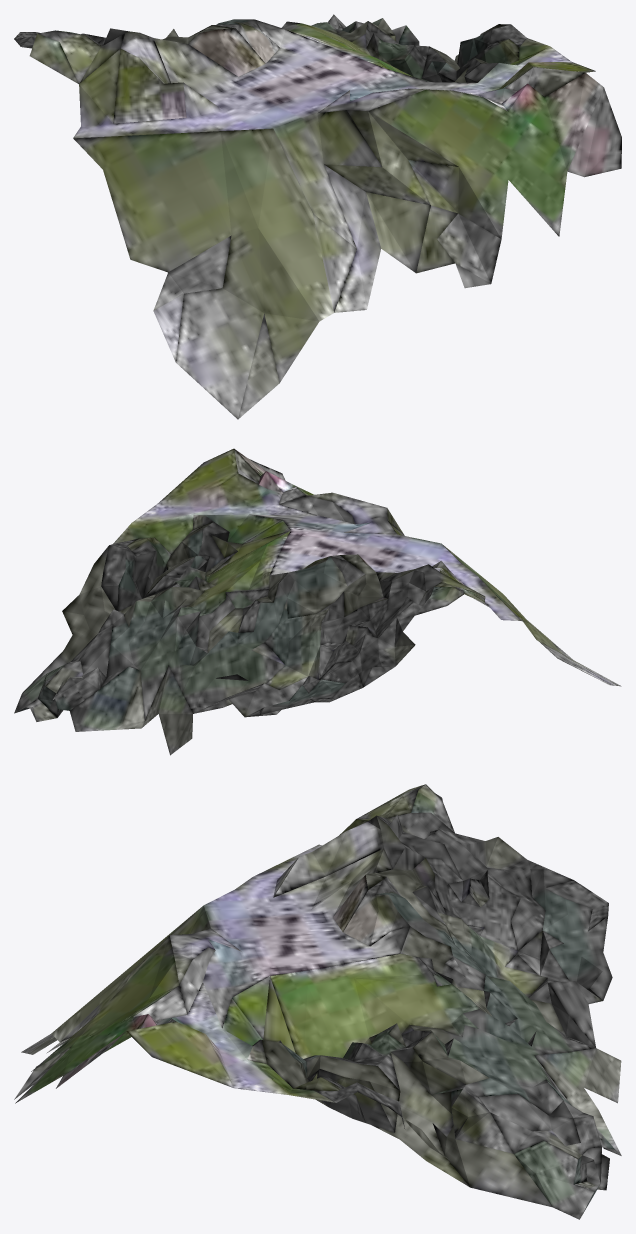
Rendered from refined_model.gltf.
The picture shows the model from 3 angles, top to bottom: view 1: azimuth 30°, elevation 25°; view 2: azimuth 150°, elevation 25°; view 3: azimuth 270°, elevation 25°; orthographic projection. The views are drawn at different scales.
Visible parts, largest first — view 1: obj_0.002; view 2: obj_0.002; view 3: obj_0.002.
Part boxes in pixels (x1=…): obj_0.002: x1=14, y1=14, x2=621, y2=419; obj_0.002: x1=14, y1=448, x2=621, y2=755; obj_0.002: x1=14, y1=784, x2=621, y2=1219.
Bounding box in the file's own units: 4.02 × 2.04 × 4.24.
1 material, 1 textured.
